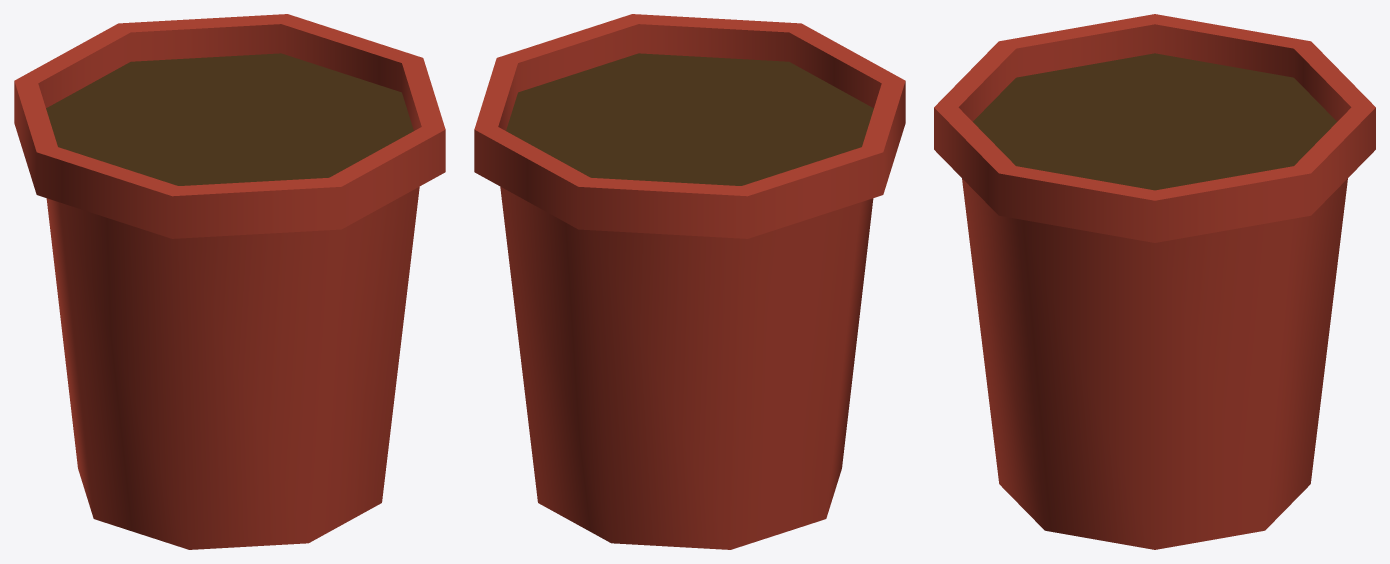
The model's file is pot.fbx.
3 renders of one model, left to right at view 1: azimuth 30°, elevation 25°; view 2: azimuth 150°, elevation 25°; view 3: azimuth 270°, elevation 25°, orthographic.
Visible parts, largest first — view 1: Cylinder; view 2: Cylinder; view 3: Cylinder.
Boxes of the visible parts, box(x1,y1,x2,y2) form: Cylinder: box(14, 14, 445, 549); Cylinder: box(474, 14, 905, 549); Cylinder: box(934, 14, 1375, 549).
Size of the model in its own units: 38.98 by 36.67 by 38.98.
